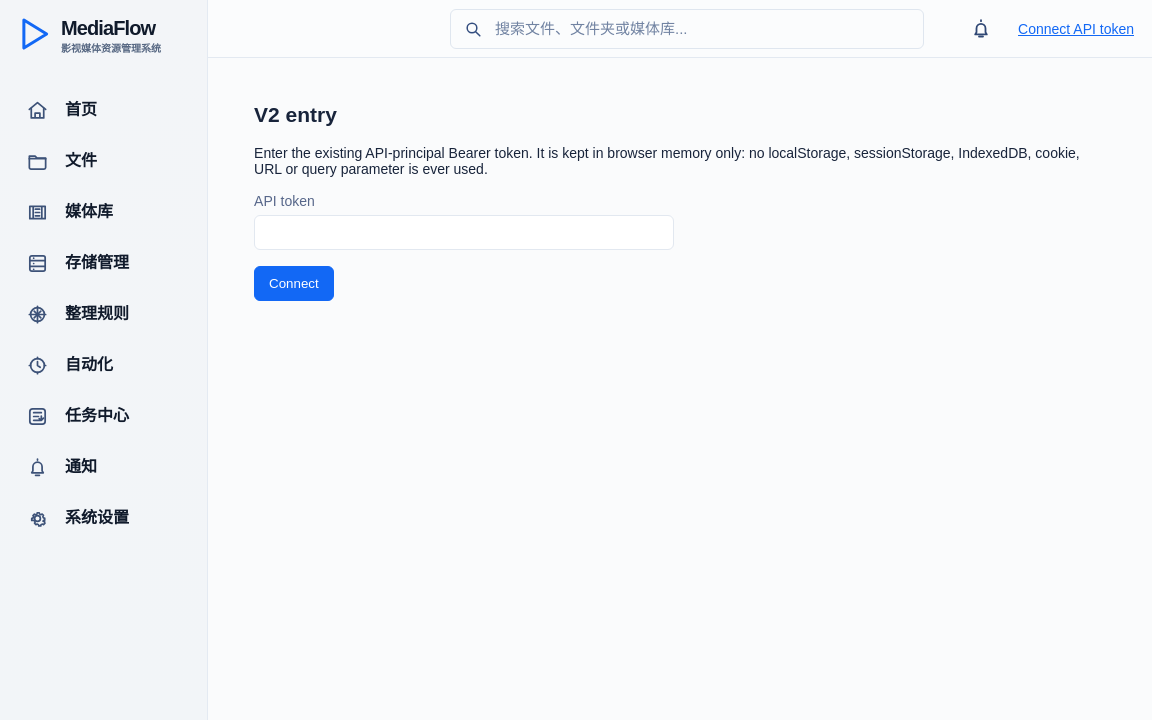
Test: EntryPage › continues to the intended path the AuthBoundary recorded
The width and height of the screenshot is (1152, 720).
Step 1. Type "entry-test-token" into the password field labelled "API token" → (464, 232), box [254,215,674,250]
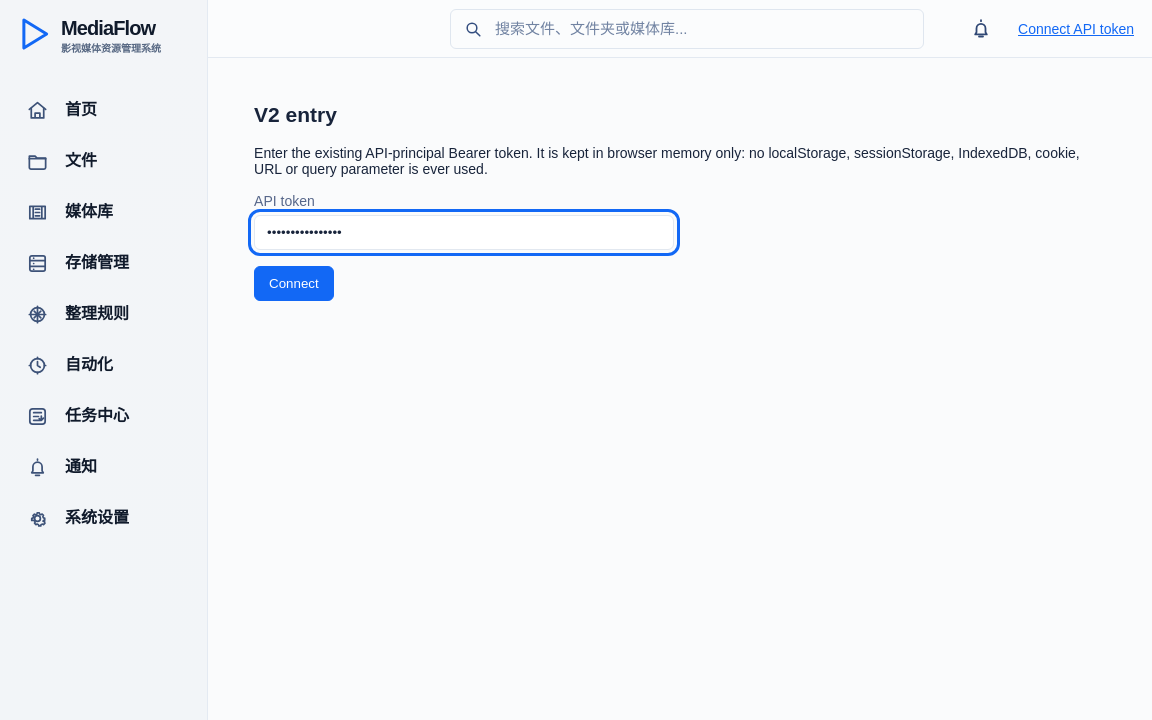
Step 2. Click the button "Connect" → click(294, 283), box [254,266,334,301]
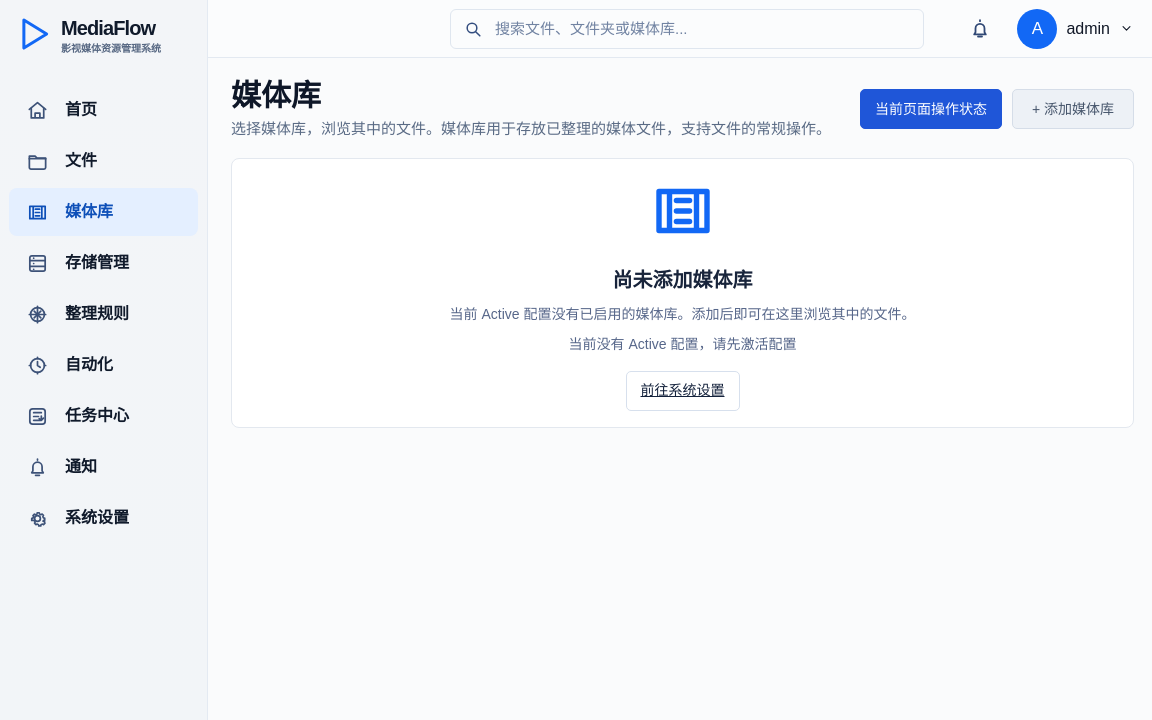
Check: the heading "媒体库" is shown, box [231,79,321,112]
Check: the heading "尚未添加媒体库" is shown, box [612,264,752,293]
